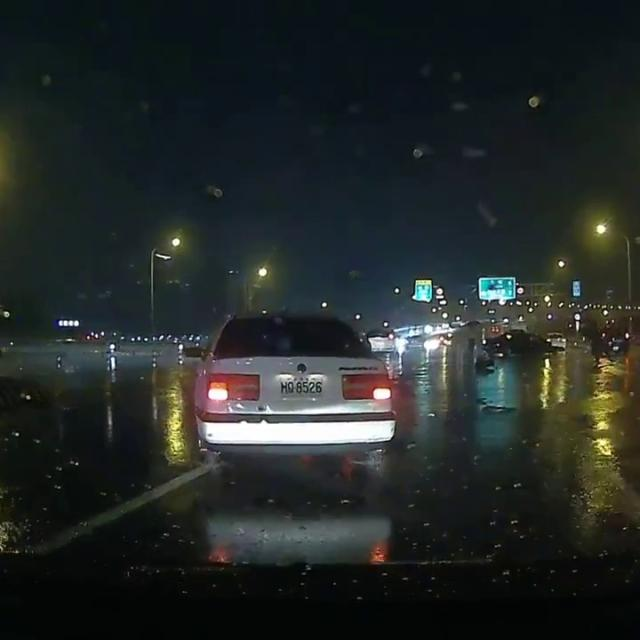Car: (184, 306, 394, 469), (363, 328, 396, 353), (600, 324, 629, 352), (544, 331, 567, 352)
